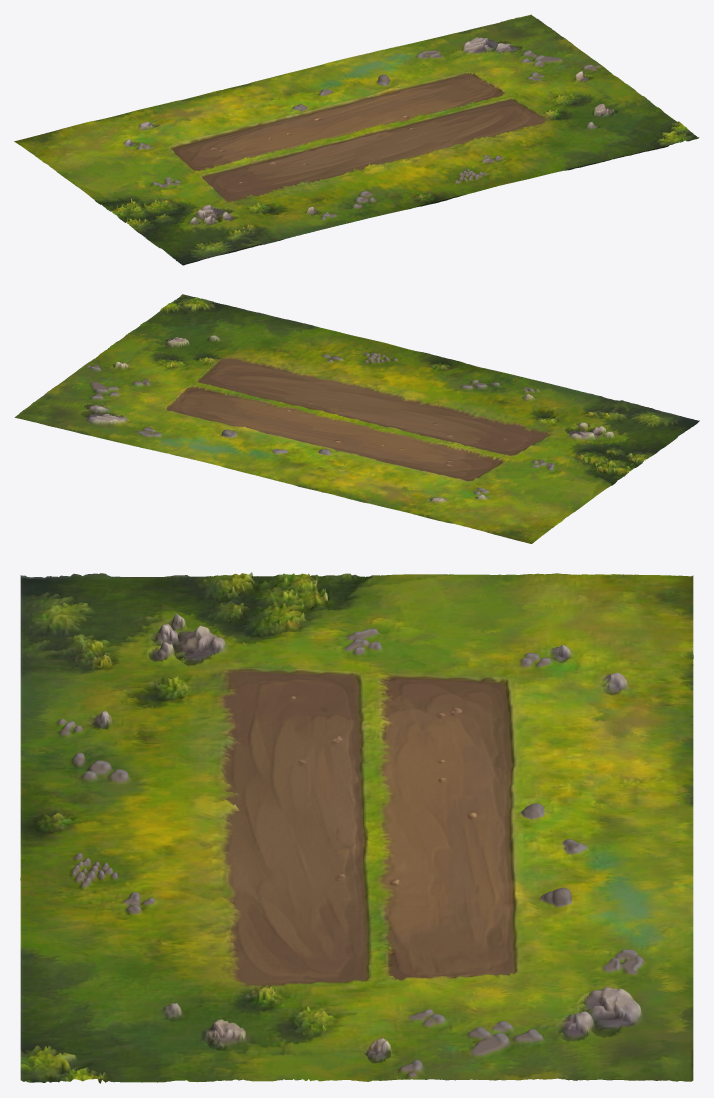
Rendered from Cyclops.fbx.
3 views of the same model, one above another, from view 1: azimuth 30°, elevation 25°; view 2: azimuth 150°, elevation 25°; view 3: azimuth 270°, elevation 25° (orthographic). The views are drawn at different scales.
Visible parts, largest first — view 1: Cyclops; view 2: Cyclops; view 3: Cyclops.
Part boxes in pixels (box(x1,y1,x2,y2)): Cyclops: box(14, 14, 699, 265); Cyclops: box(14, 294, 699, 543); Cyclops: box(20, 572, 693, 1083).
Size of the model in its own units: 1.78 by 0.0329 by 1.
Materials: 1 (1 with a texture image).
